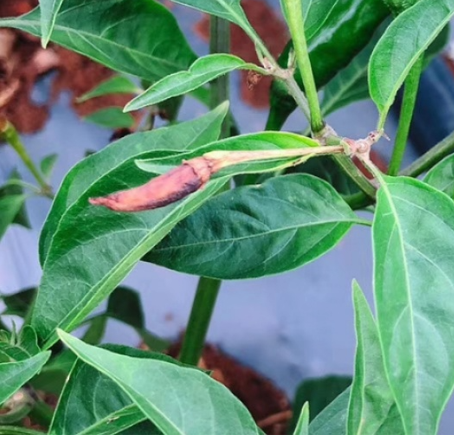blight: (85, 151, 214, 214), (315, 118, 388, 182), (240, 46, 301, 101)
